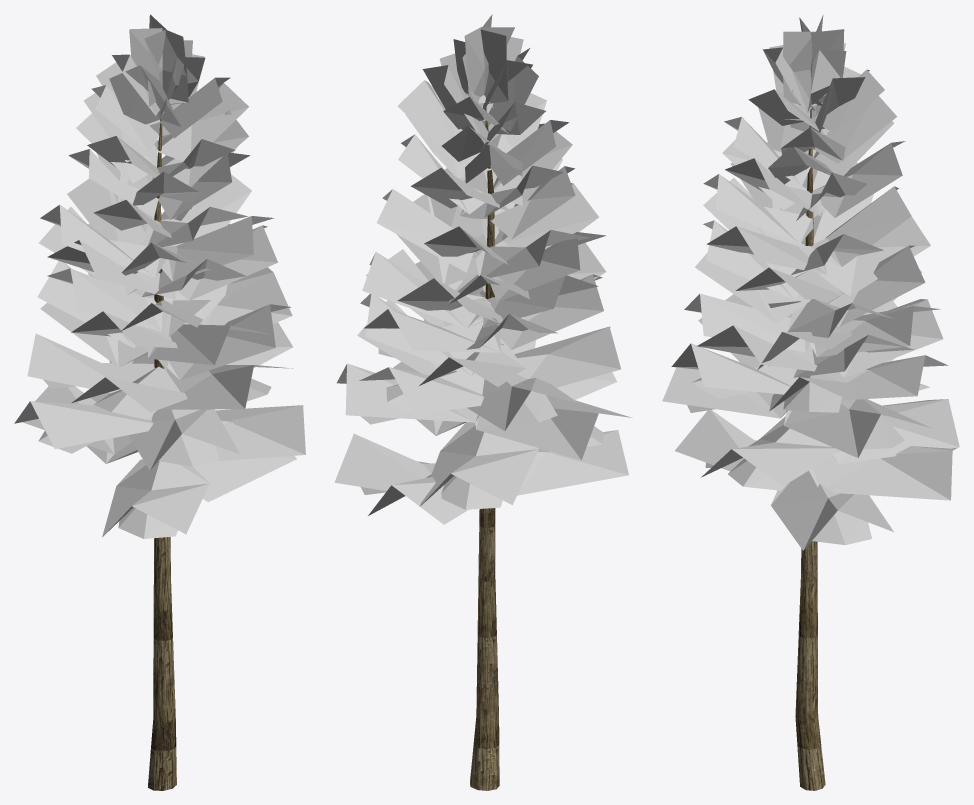
Rendered from fir3.obj.
The picture shows the model from 3 angles, left to right: view 1: azimuth 30°, elevation 25°; view 2: azimuth 150°, elevation 25°; view 3: azimuth 270°, elevation 25°; orthographic projection.
Visible parts, largest first — view 1: mesh1_mesh1.003, mesh0_mesh0.003; view 2: mesh1_mesh1.003, mesh0_mesh0.003; view 3: mesh1_mesh1.003, mesh0_mesh0.003.
Boxes of the visible parts, x1,y1,x2,y2 form: mesh1_mesh1.003: (14, 14, 305, 538); mesh0_mesh0.003: (148, 119, 176, 790); mesh1_mesh1.003: (334, 14, 632, 524); mesh0_mesh0.003: (470, 107, 499, 790); mesh1_mesh1.003: (662, 15, 959, 550); mesh0_mesh0.003: (795, 109, 825, 790).
Size of the model in its own units: 89.75 by 252 by 89.69.
